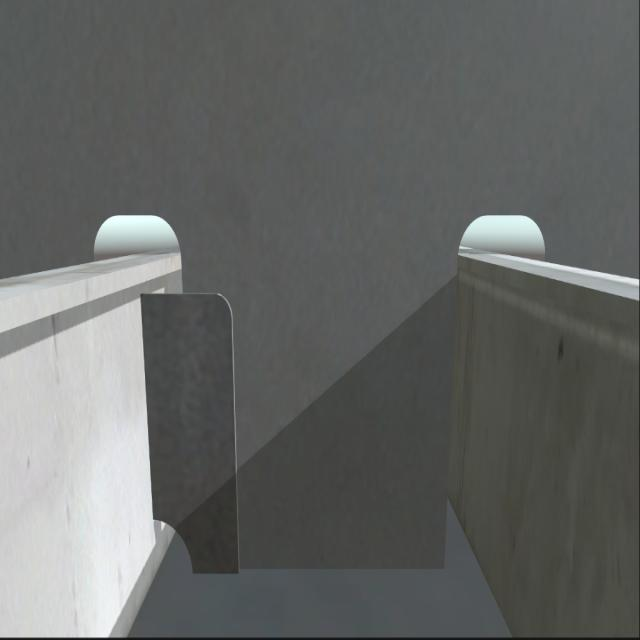fillet_hole: (149, 514, 195, 570)
fillet_yong_jeop_jang: (186, 561, 450, 579)
longi_yong_jeop_jang: (139, 289, 158, 528)
plate_CP05: (138, 293, 236, 572)
